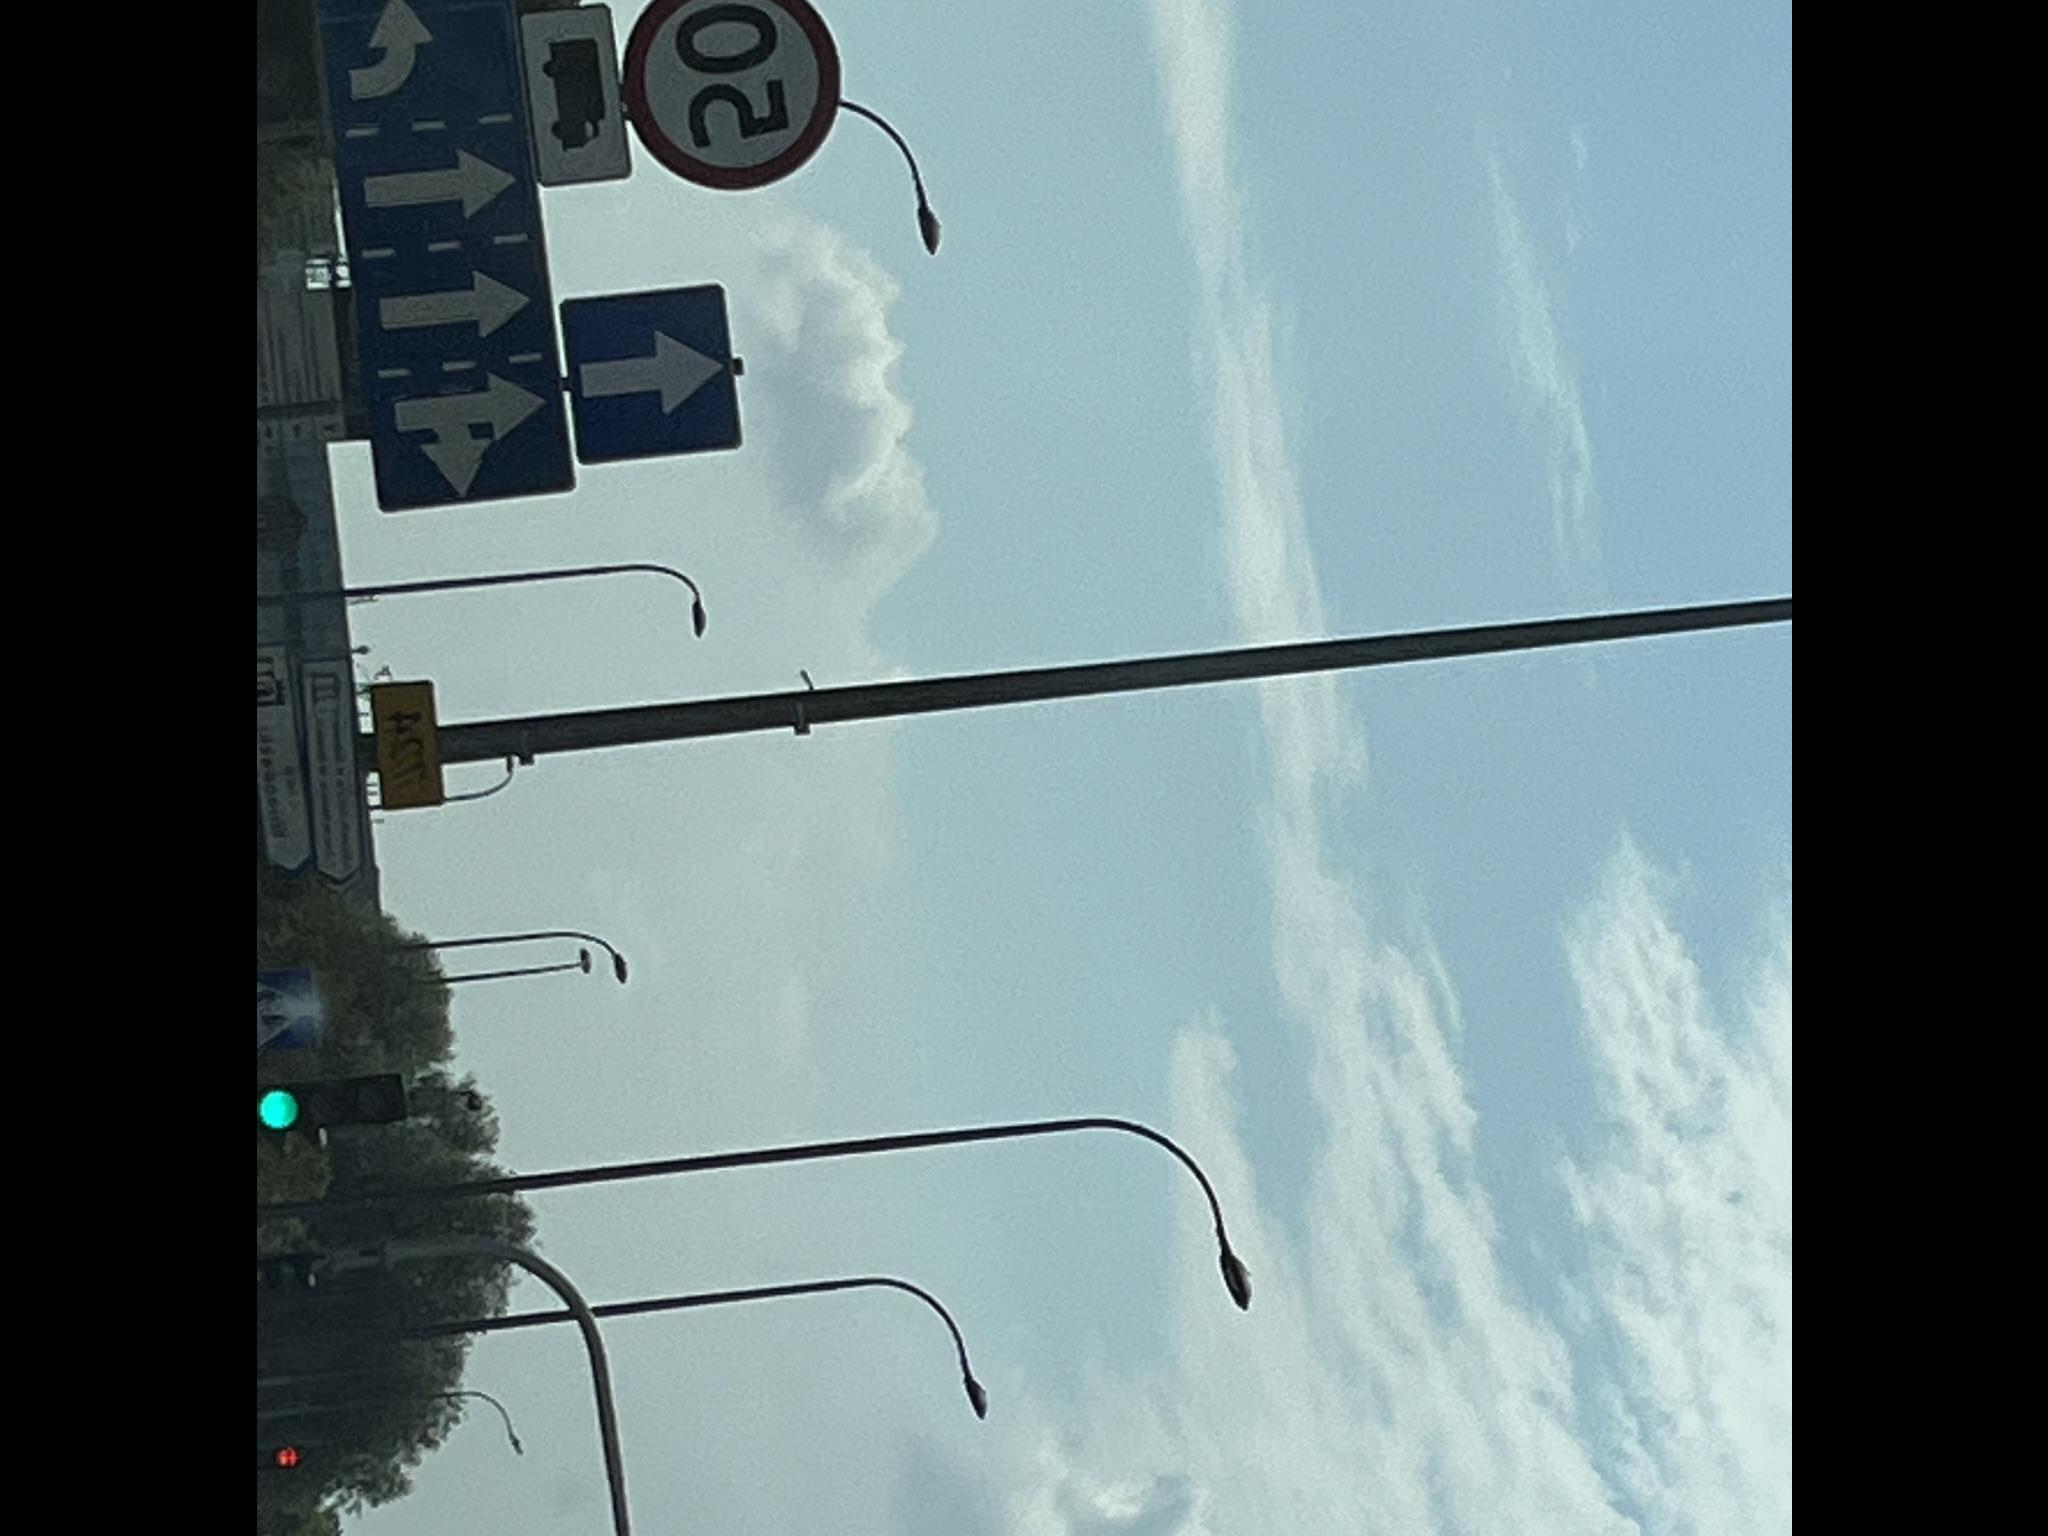information: (566, 287, 735, 460)
other: (347, 0, 535, 503), (526, 10, 613, 182)
prohibitory: (624, 0, 843, 190)
